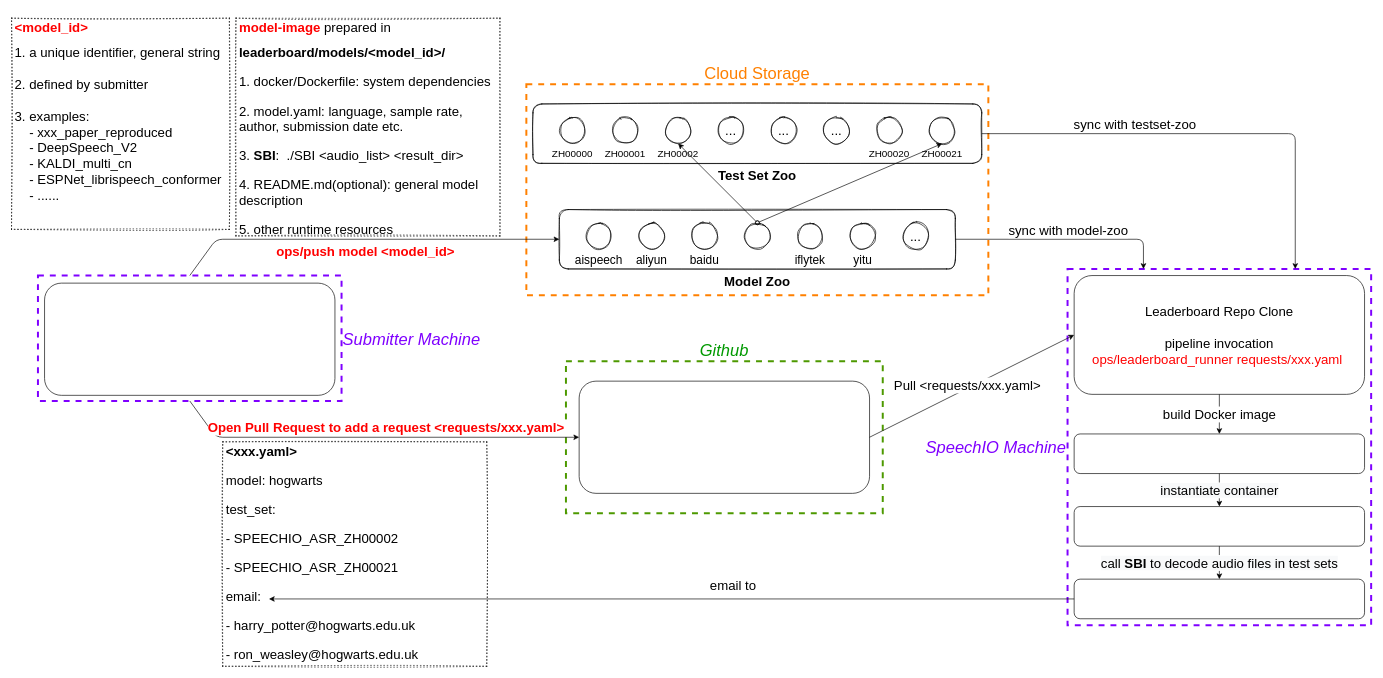
Image size: 1383x678. Some labels were removed from this diagram. The centre of each missing label's shape, as x and y in pixels:
a running Container reproducing submitter's env: point 1219,526
benchmark results: point 1219,598
hogwarts: point 757,235
Image from <model_dir>/docker/Dockerfile: point 1219,453
Leaderboard Repo: point 724,436
Leaderboard Repo Clone: point 189,338
